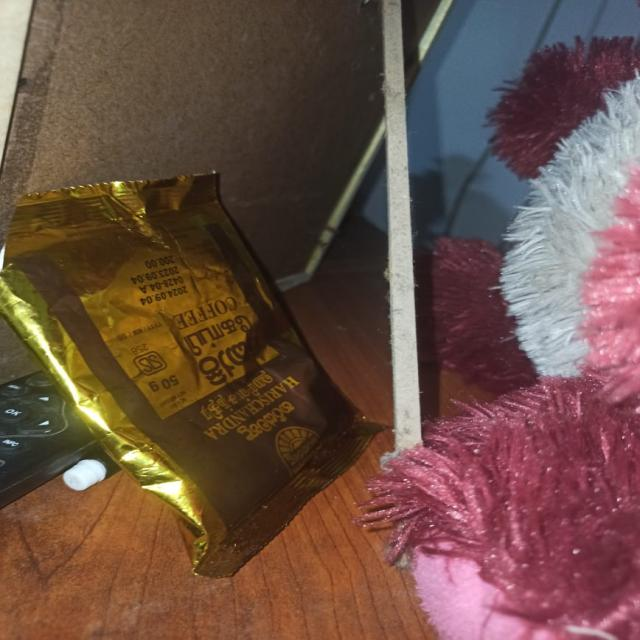Harischandra Coffee: (2, 207, 358, 535)
